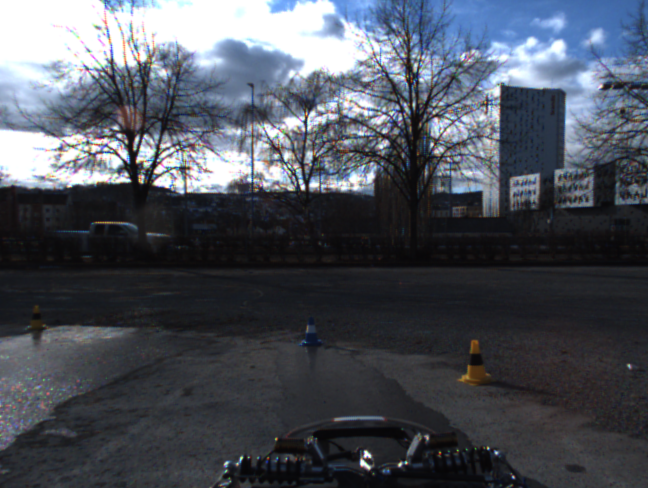cone-small-blue: (298, 317, 324, 346)
cone-small-yellow: (457, 340, 496, 386), (25, 304, 48, 330)
